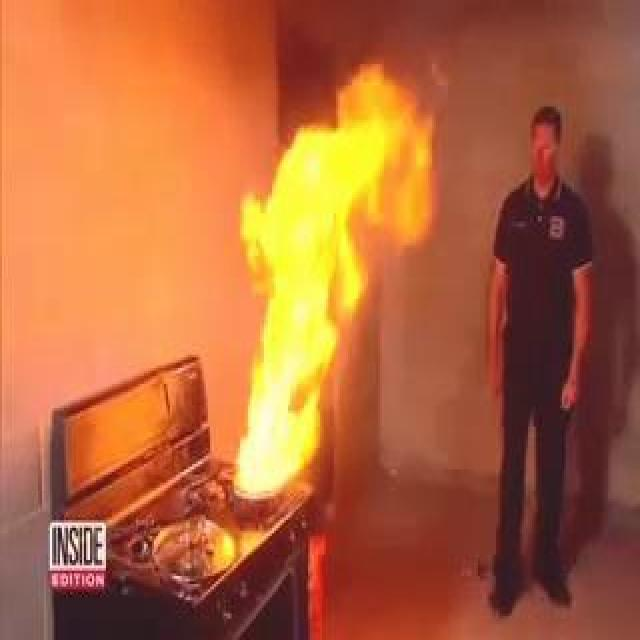Fire: (229, 70, 433, 502)
